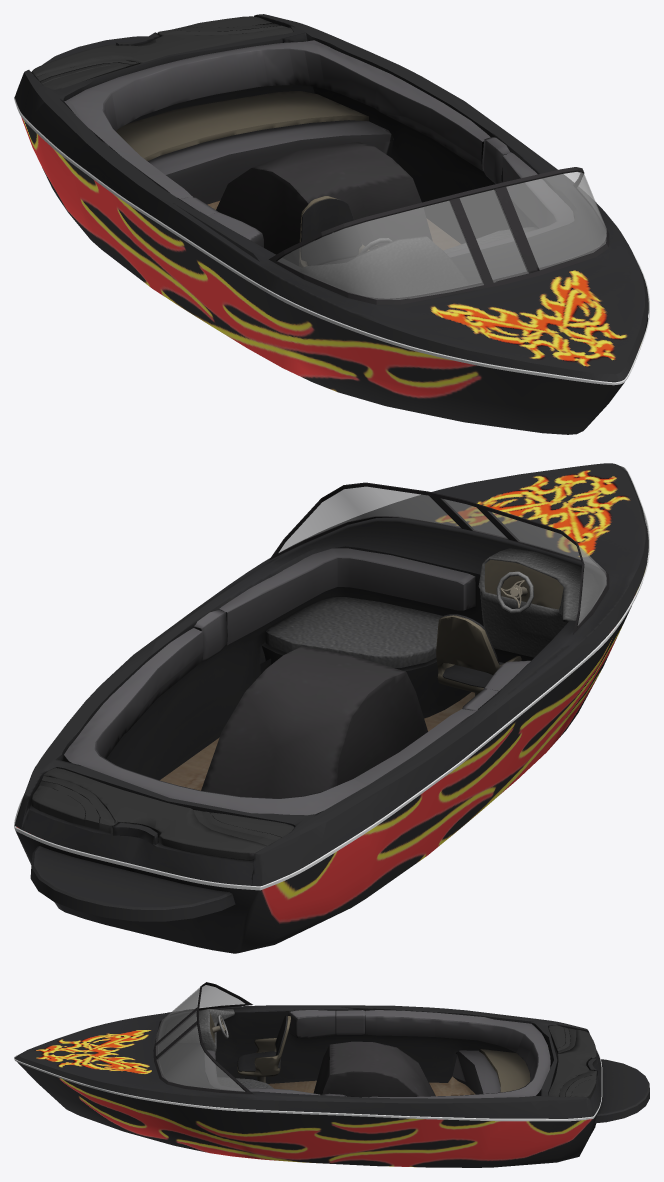
Rendered from Speed_Boat_02_V01.fbx.
3 views of the same model, one above another, from view 1: azimuth 30°, elevation 25°; view 2: azimuth 150°, elevation 25°; view 3: azimuth 270°, elevation 25° (orthographic). The views are drawn at different scales.
Visible parts, largest first — view 1: Speed_Boat_02_Body; view 2: Speed_Boat_02_Body, Speed_Boat_02_Steering; view 3: Speed_Boat_02_Body.
Boxes of the visible parts, <box> form: Speed_Boat_02_Body: <box>14,14,649,434</box>; Speed_Boat_02_Body: <box>14,463,649,953</box>; Speed_Boat_02_Steering: <box>496,571,533,613</box>; Speed_Boat_02_Body: <box>14,982,649,1167</box>.
Size of the model in its own units: 300 by 181 by 813.
